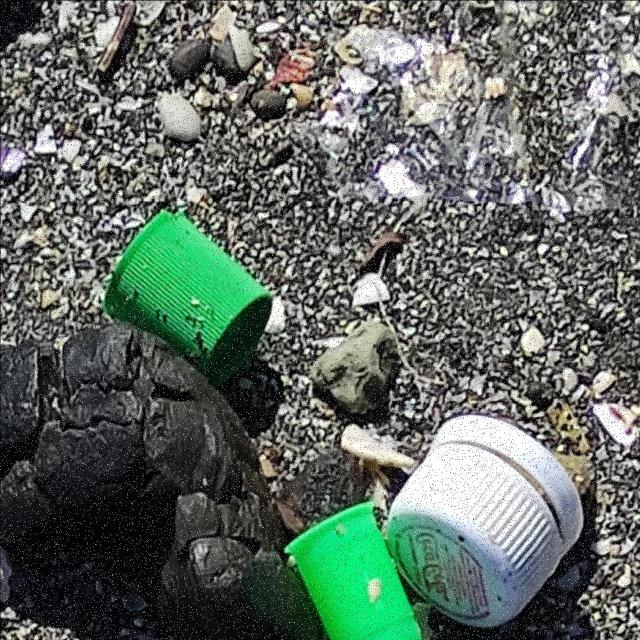plastic_waste: (386, 414, 587, 630)
